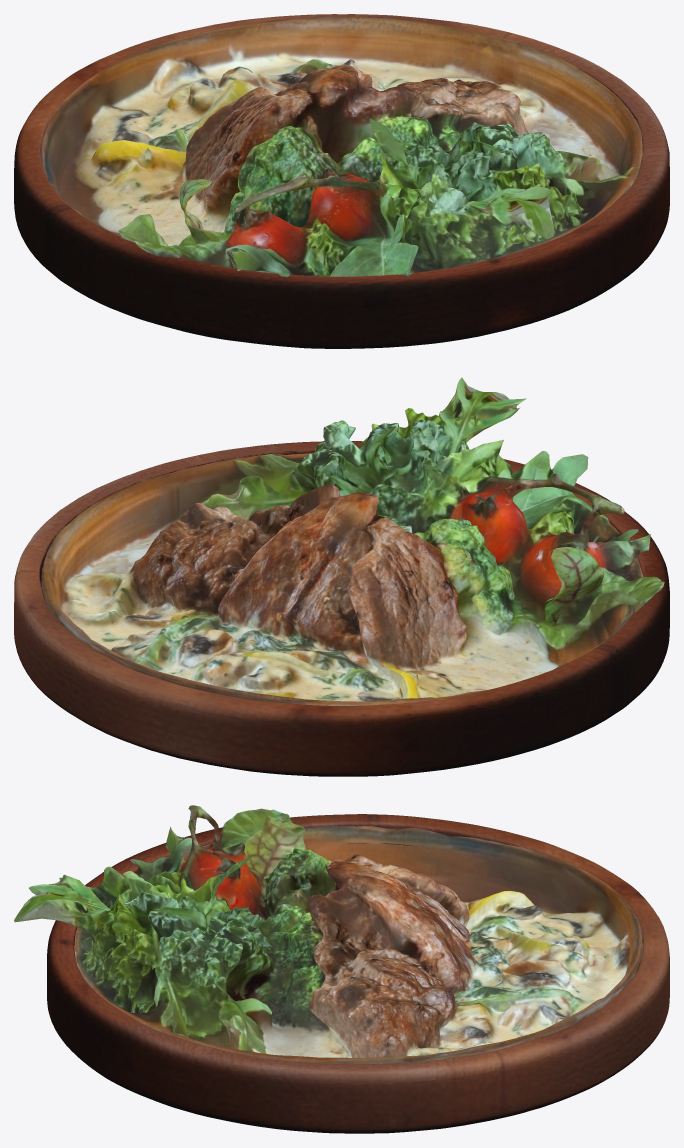
Rendered from Minor.jigar.glb.
3 renders of one model, top to bottom at view 1: azimuth 30°, elevation 25°; view 2: azimuth 150°, elevation 25°; view 3: azimuth 270°, elevation 25°, orthographic. The views are drawn at different scales.
Visible parts, largest first — view 1: object 1, world; view 2: object 1, world; view 3: object 1, world.
Part boxes in pixels (box(x1,y1,x2,y2)): object 1: box(41, 17, 642, 276); world: box(14, 14, 669, 348); object 1: box(41, 377, 664, 705); world: box(14, 441, 669, 776); object 1: box(14, 805, 644, 1064); world: box(47, 814, 669, 1133).
Bounding box in the file's own units: 0.3001 × 0.0725 × 0.3159.
2 materials, 2 textured.
